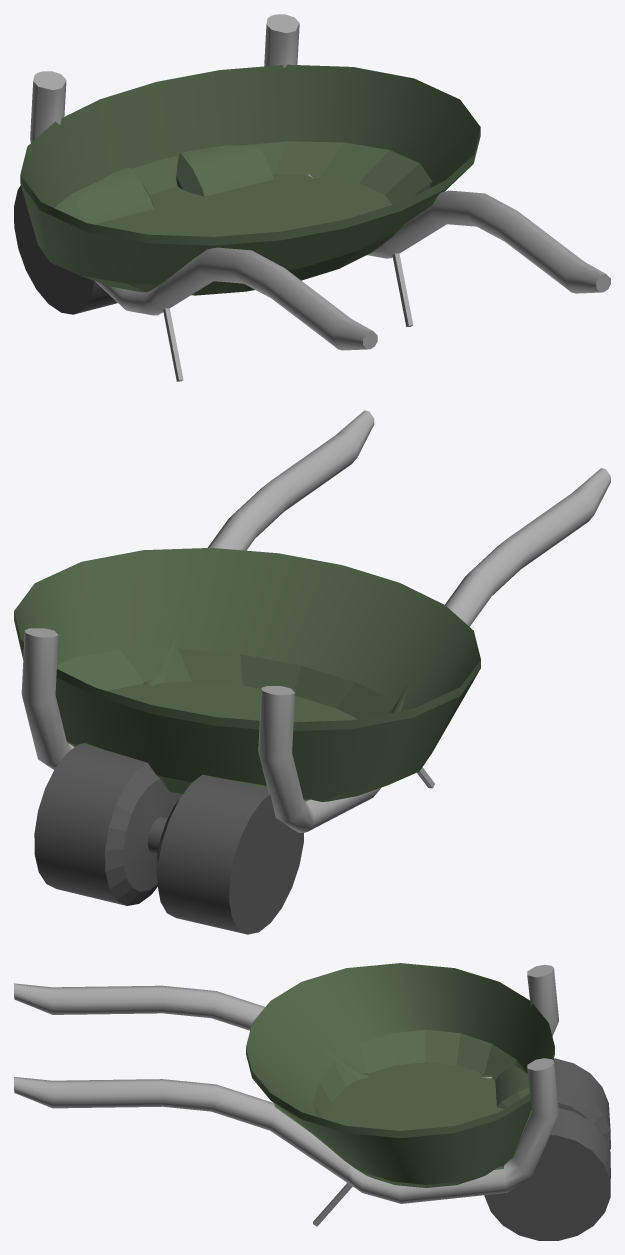
Rendered from Kruiwagen.fbx.
3 views of the same model, one above another, from view 1: azimuth 30°, elevation 25°; view 2: azimuth 150°, elevation 25°; view 3: azimuth 270°, elevation 25° (orthographic). The views are drawn at different scales.
Visible parts, largest first — view 1: polySurface31; view 2: polySurface31; view 3: polySurface31.
Part boxes in pixels (left/top/right/bottom): polySurface31: left=14, top=14, right=610, bottom=381; polySurface31: left=14, top=410, right=610, bottom=934; polySurface31: left=14, top=963, right=610, bottom=1240.
Bounding box in the file's own units: 7.89 × 4.24 × 11.85.
